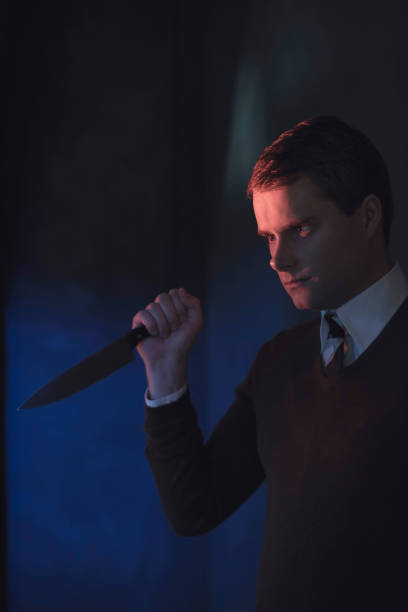knife: (11, 320, 151, 415)
